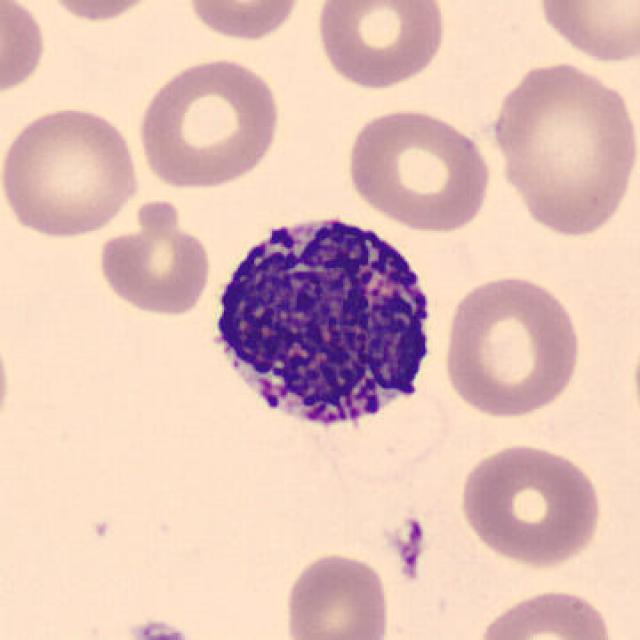Basophil: (194, 199, 446, 453)
Platelets: (112, 615, 208, 640)
RBC: (487, 56, 638, 242), (437, 270, 585, 421), (133, 53, 284, 192), (0, 100, 146, 242), (342, 104, 494, 235), (455, 439, 606, 569), (307, 376, 458, 494), (94, 199, 215, 319), (311, 0, 449, 93), (281, 548, 393, 640), (473, 583, 619, 640), (531, 0, 640, 67), (181, 0, 306, 44), (0, 0, 50, 99), (35, 0, 169, 25), (0, 324, 12, 444)
